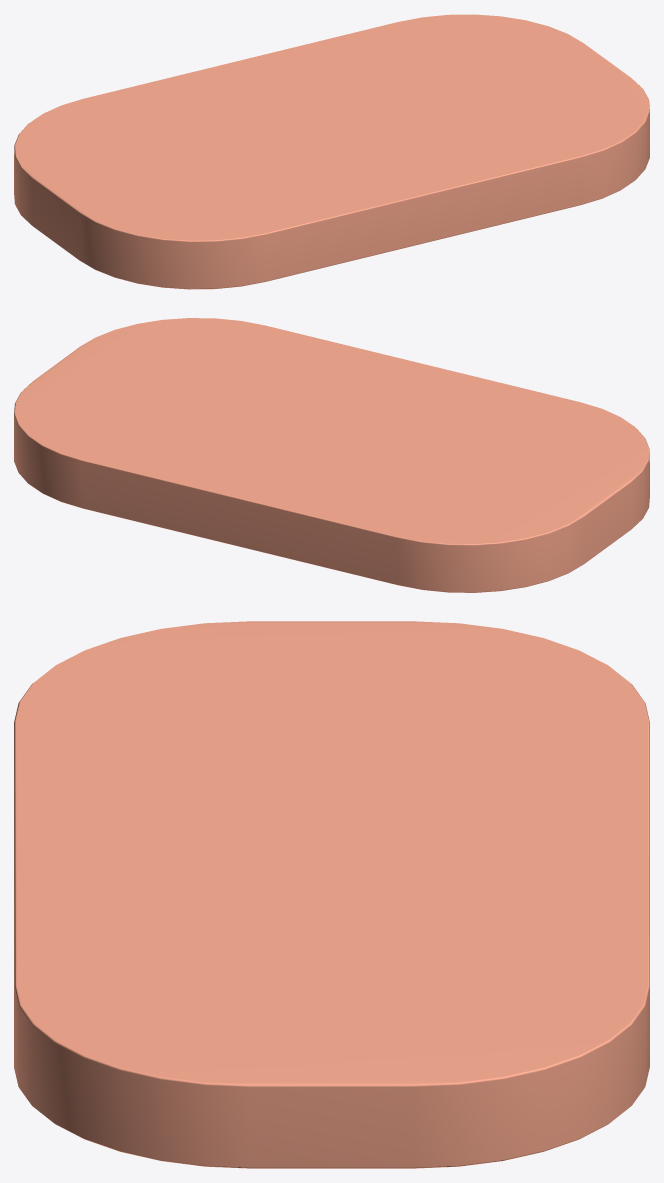
Rendered from Public_19_Base_1.glb.
3 renders of one model, top to bottom at view 1: azimuth 30°, elevation 25°; view 2: azimuth 150°, elevation 25°; view 3: azimuth 270°, elevation 25°, orthographic. The views are drawn at different scales.
Parts seen in each view (by area): view 1: Public_19_Base_1; view 2: Public_19_Base_1; view 3: Public_19_Base_1.
Boxes of the visible parts, box(x1,y1,x2,y2) form: Public_19_Base_1: box(14, 14, 649, 289); Public_19_Base_1: box(14, 318, 649, 592); Public_19_Base_1: box(14, 621, 649, 1168).
Bounding box in the file's own units: 14.52 × 1.23 × 8.39.
Materials: 1 (1 with a texture image).
